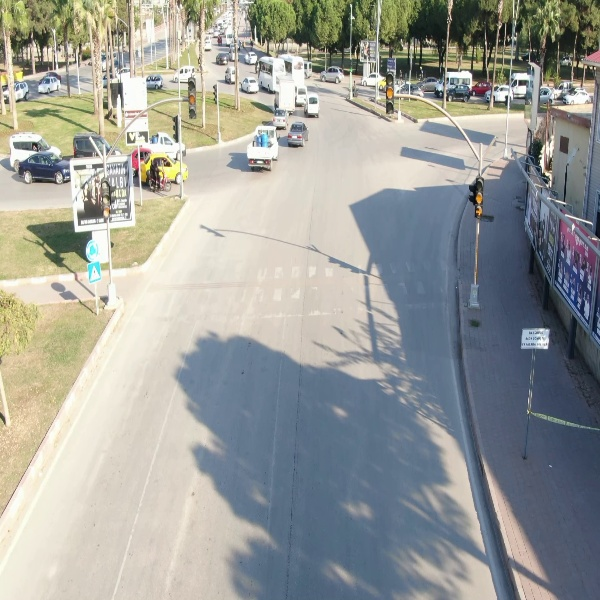car: (17, 149, 71, 185), (284, 121, 308, 150), (562, 87, 594, 108), (444, 82, 474, 104), (486, 85, 515, 106), (301, 91, 321, 121), (35, 74, 60, 96), (317, 65, 346, 81), (174, 65, 197, 85), (144, 73, 164, 96), (271, 108, 291, 129), (242, 76, 262, 95), (213, 49, 230, 69), (244, 51, 259, 63)
